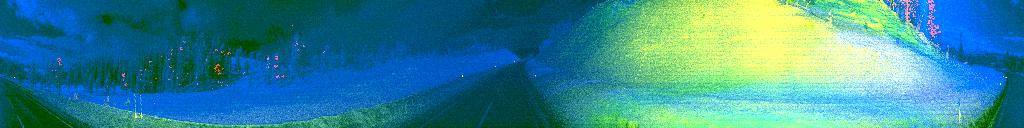pole: (955, 90, 963, 128), (132, 90, 139, 125), (138, 92, 144, 121)
